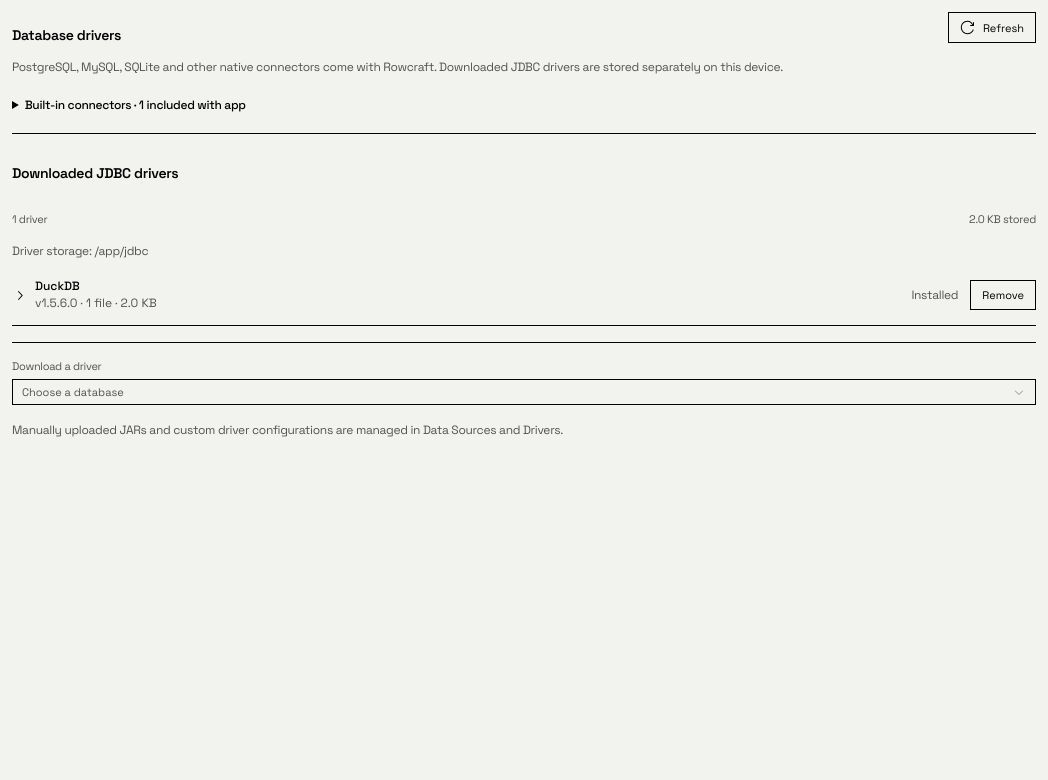
keeps the package visible when removal fails and allows retry
The image size is (1048, 780).
Step 1. Click the button with aria-label "Remove DuckDB" → (1003, 295), box [970,280,1036,310]
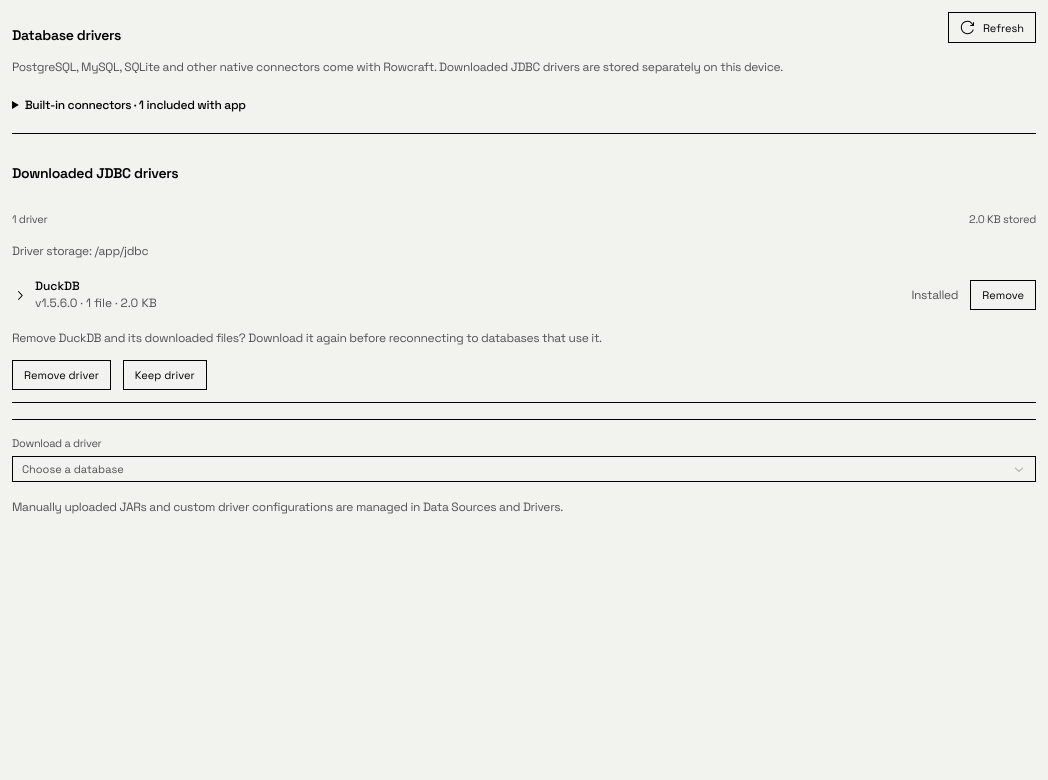
Step 2. Click the button "Remove driver" → (61, 375), box [12,360,111,390]
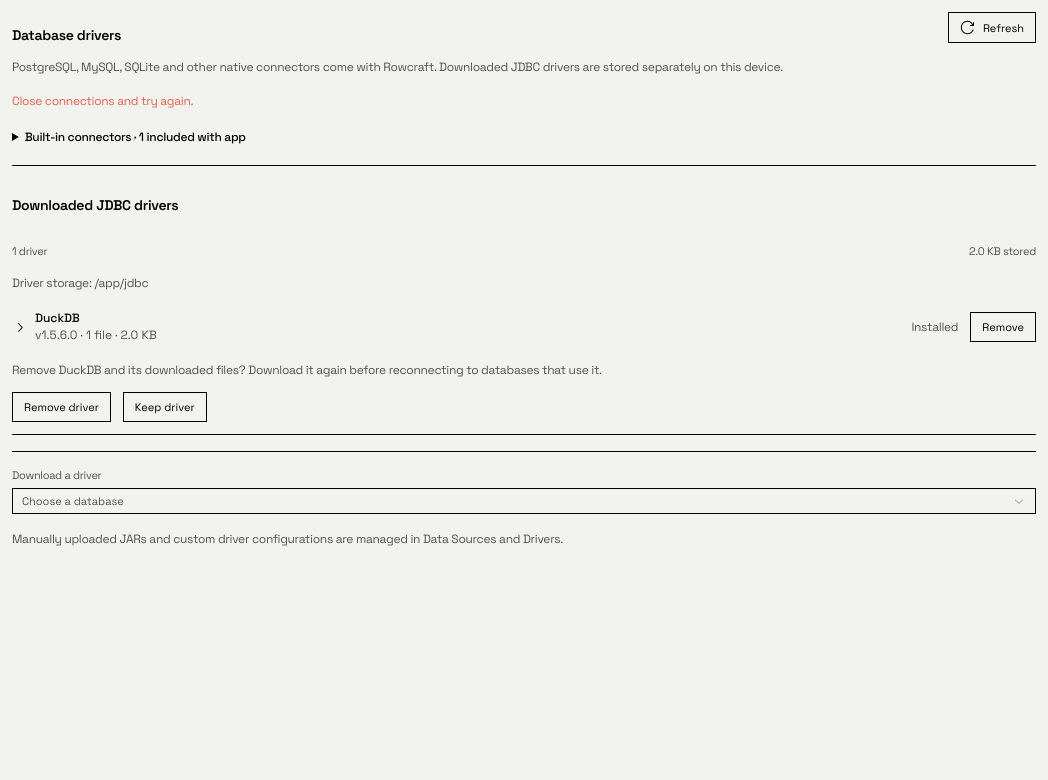
Expected: the element "DuckDB" is shown, [12,310,1036,435]
Expected: the message "Close connections and try again." is shown, [12,93,193,109]
Step 3. Click the button "Remove driver" → (61, 407), box [12,392,111,422]
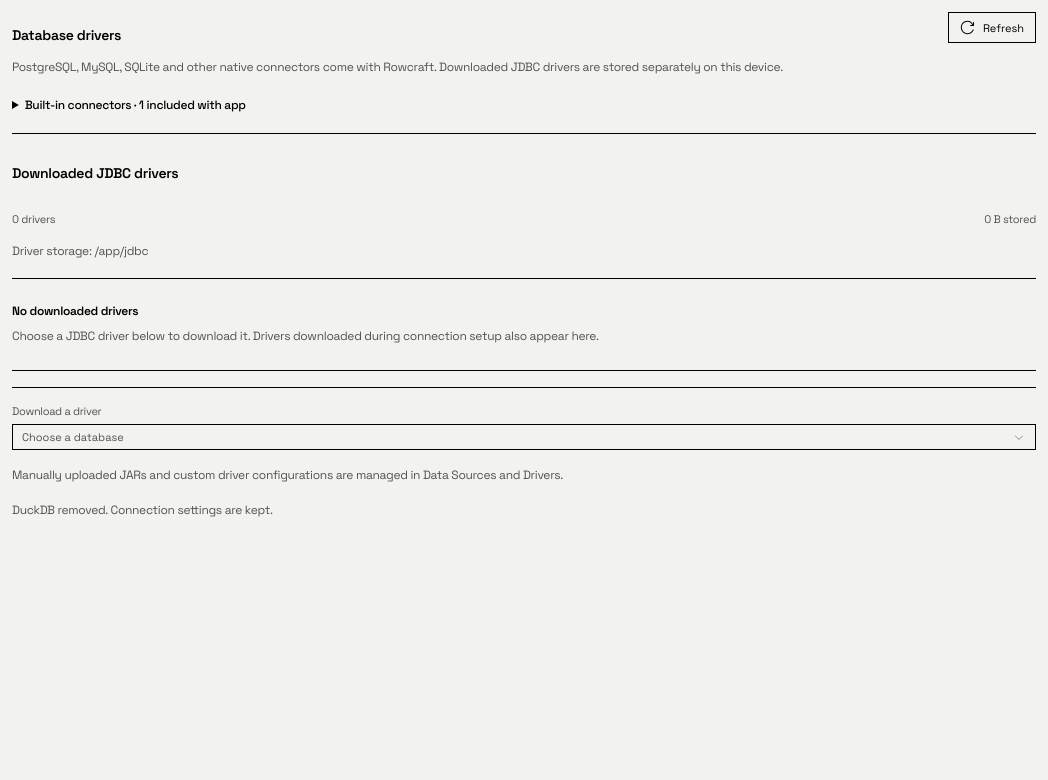
Expected: the text "No downloaded drivers" is shown, [12,302,138,318]
